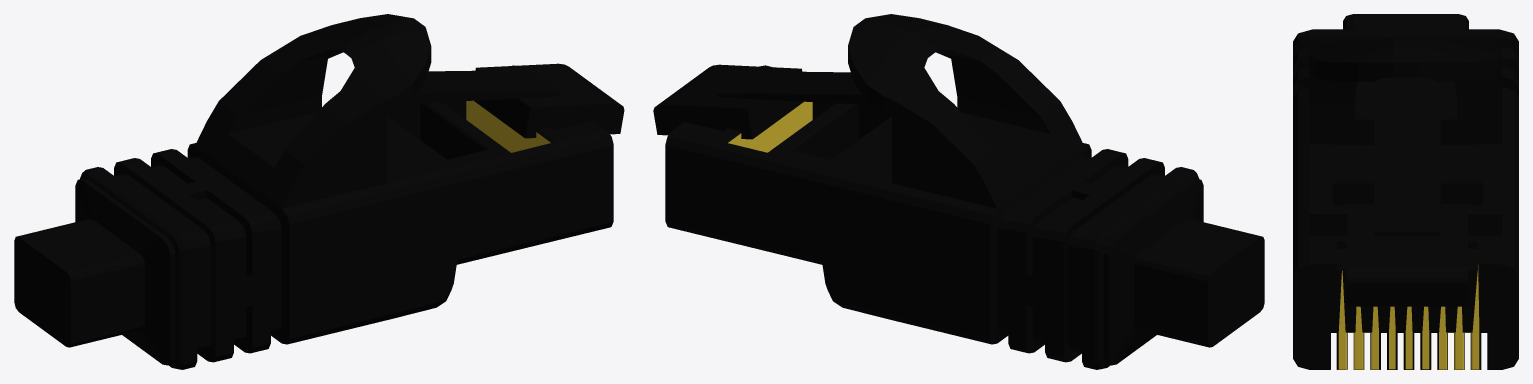
The picture shows the model from 3 angles, left to right: view 1: azimuth 30°, elevation 25°; view 2: azimuth 150°, elevation 25°; view 3: azimuth 270°, elevation 25°; orthographic projection. The views are drawn at different scales.
Parts seen in each view (by area): view 1: Cube.025; view 2: Cube.025; view 3: Cube.025.
Part boxes in pixels (x1=…): Cube.025: x1=14, y1=14, x2=624, y2=369; Cube.025: x1=653, y1=14, x2=1264, y2=369; Cube.025: x1=1293, y1=14, x2=1518, y2=369.
Size of the model in its own units: 631 by 267 by 200.
